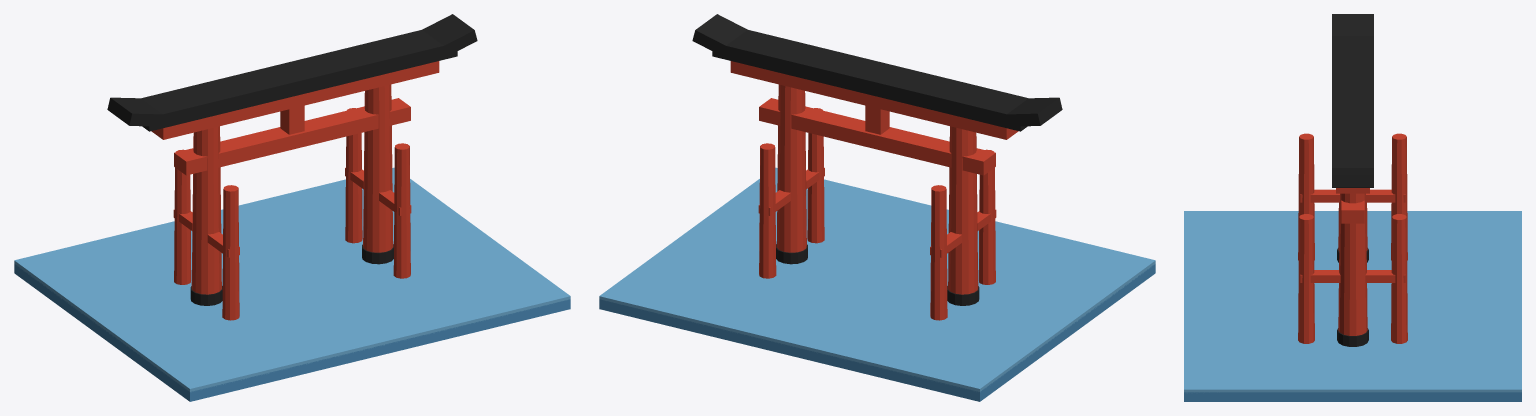
Rendered from great-torii.glb.
3 views of the same model, side by side, from view 1: azimuth 30°, elevation 25°; view 2: azimuth 150°, elevation 25°; view 3: azimuth 270°, elevation 25° (orthographic). The views are drawn at different scales.
Parts seen in each view (by area): view 1: great-torii; view 2: great-torii; view 3: great-torii.
Boxes of the visible parts, left/top/right/bottom form: great-torii: left=14, top=14, right=570, bottom=401; great-torii: left=599, top=14, right=1155, bottom=401; great-torii: left=1184, top=14, right=1521, bottom=401.
Size of the model in its own units: 1.75 by 1 by 1.4.
